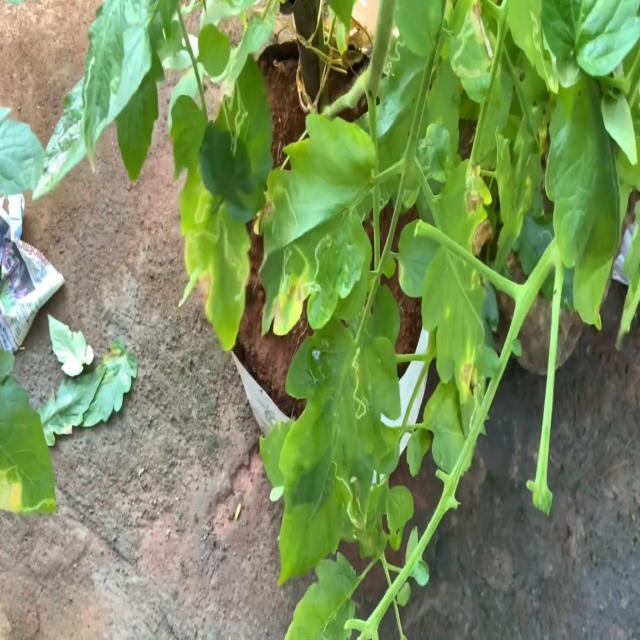Tomato target spot leaf: (278, 316, 402, 588), (258, 111, 376, 335), (170, 92, 251, 354), (200, 53, 274, 224), (0, 348, 59, 518), (506, 0, 552, 92), (449, 0, 497, 78), (462, 377, 484, 432), (380, 39, 408, 80)
